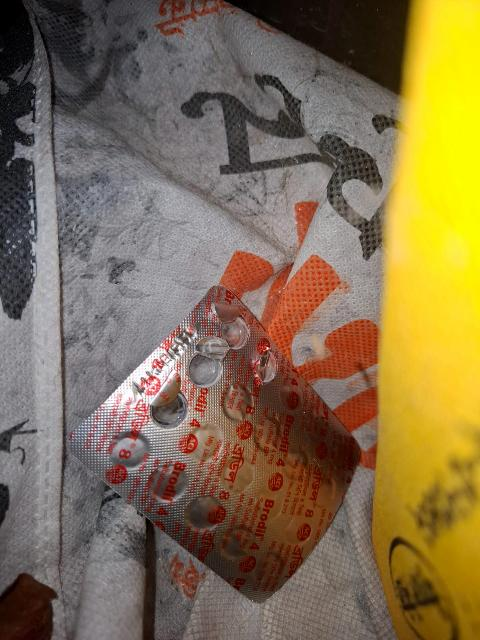medicine: (44, 265, 416, 638)
